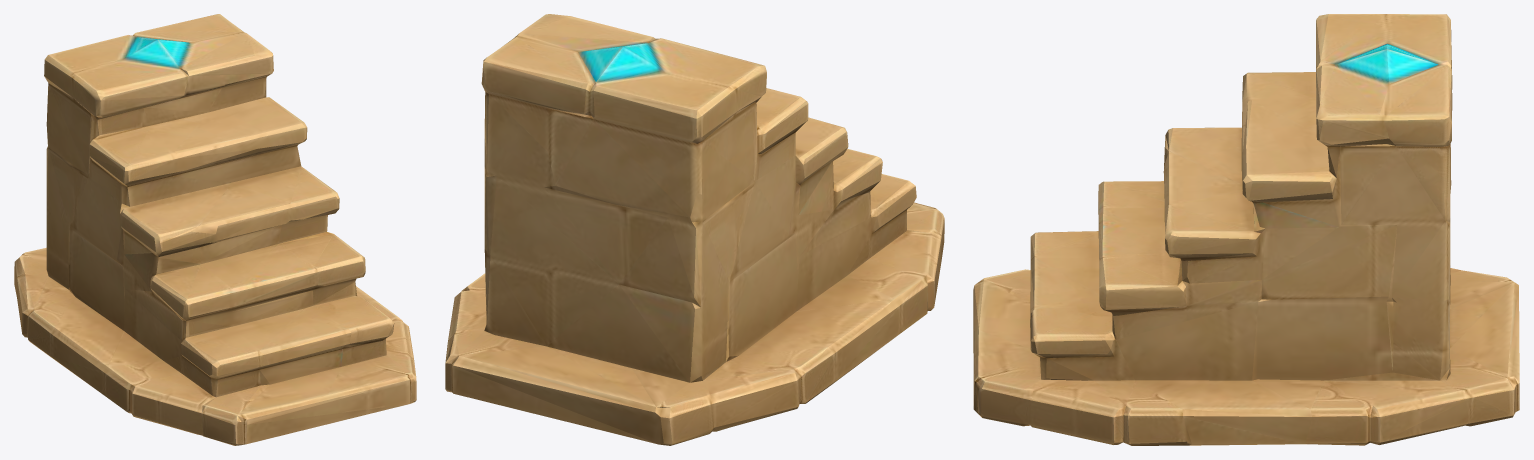
Rendered from escada-pedra.glb.
3 views of the same model, side by side, from view 1: azimuth 30°, elevation 25°; view 2: azimuth 150°, elevation 25°; view 3: azimuth 270°, elevation 25° (orthographic). The views are drawn at different scales.
Visible parts, largest first — view 1: Mesh_0; view 2: Mesh_0; view 3: Mesh_0.
Boxes of the visible parts, x1,y1,x2,y2 form: Mesh_0: [14, 14, 416, 445]; Mesh_0: [445, 14, 944, 445]; Mesh_0: [973, 14, 1519, 445].
Bounding box in the file's own units: 1.35 × 1.22 × 1.9.
1 material, 1 textured.
